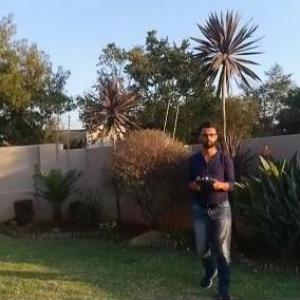follow: (187, 117, 240, 299)
